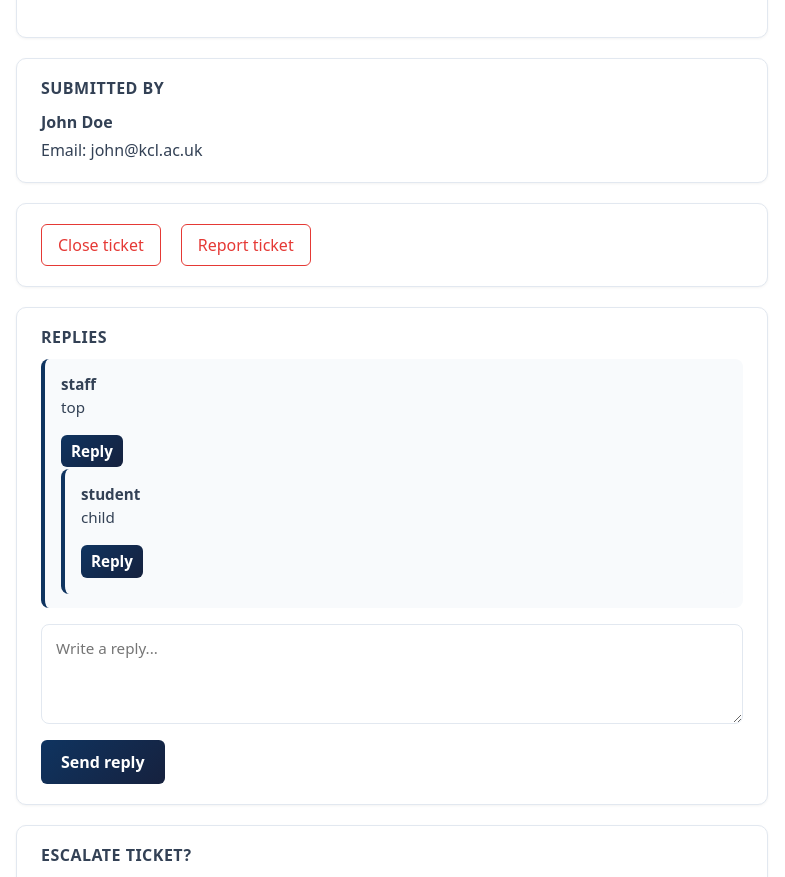
Test: TicketPage › supports nested reply target cancel
This screenshot has width=785, height=877.
(page scrolled)
Click the button "Reply" below "top" at (92,451), box [61,434,123,467]
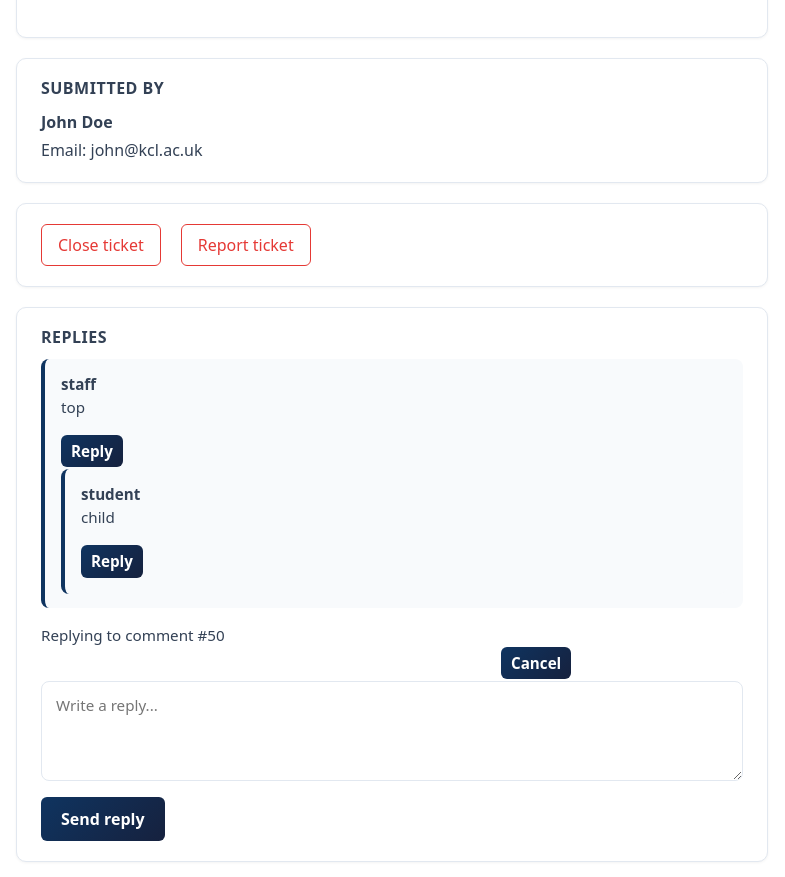
Now the text "Replying to comment #50 Cancel" is shown, box [41,625,571,679]
Click the button "Cancel" at (536,663), box [501,646,571,679]
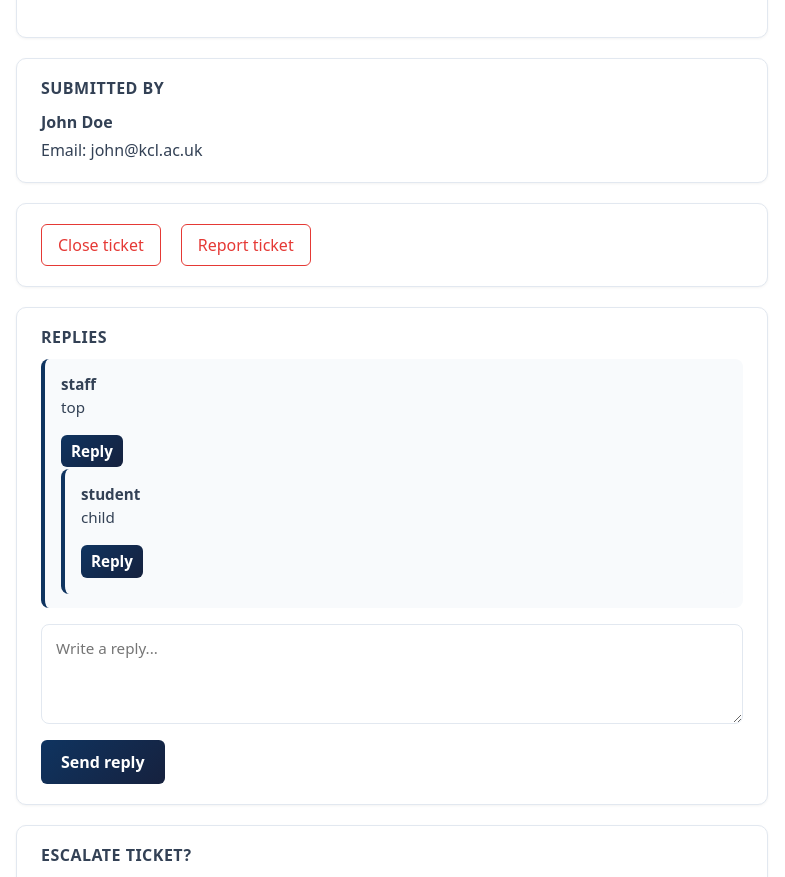
Now the text "Replying to comment" is gone
